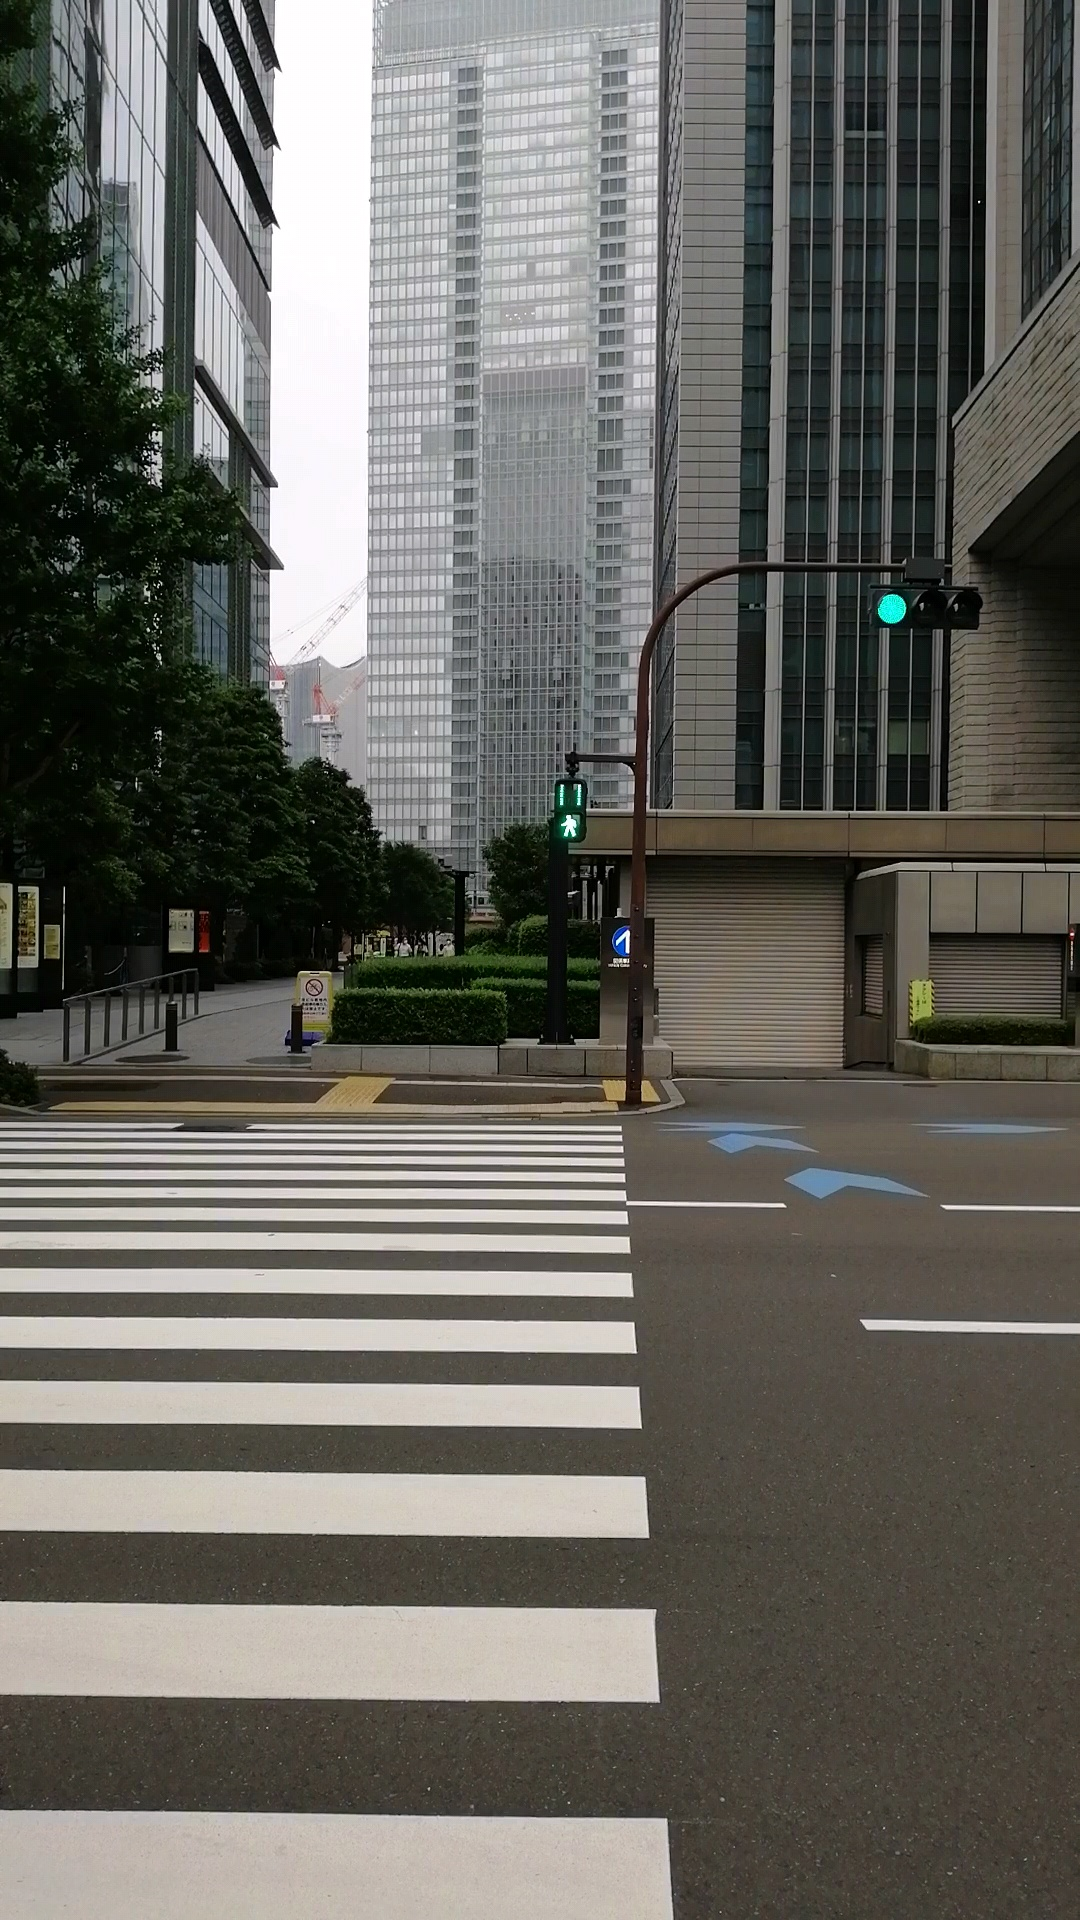green: (553, 777, 588, 844)
